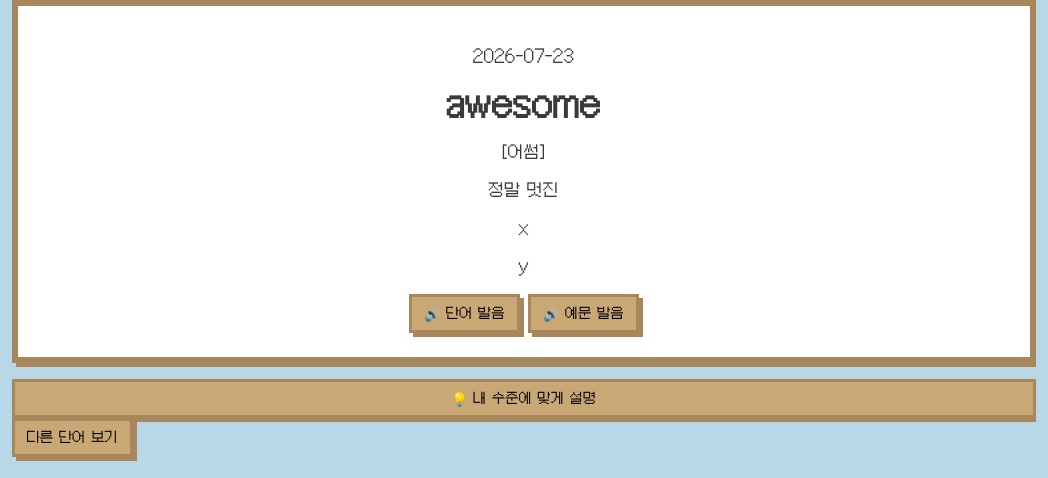
TodayPage › shows the explain button and hides it while a challenge is open
Expected: the button "💡 내 수준에 맞게 설명" is shown, [12,379,1036,418]
What coordinates should you click on to do the following:
click the button "다른 단어 보기"
I would click on:
 (73, 438)
Its box is [12,418,133,457].
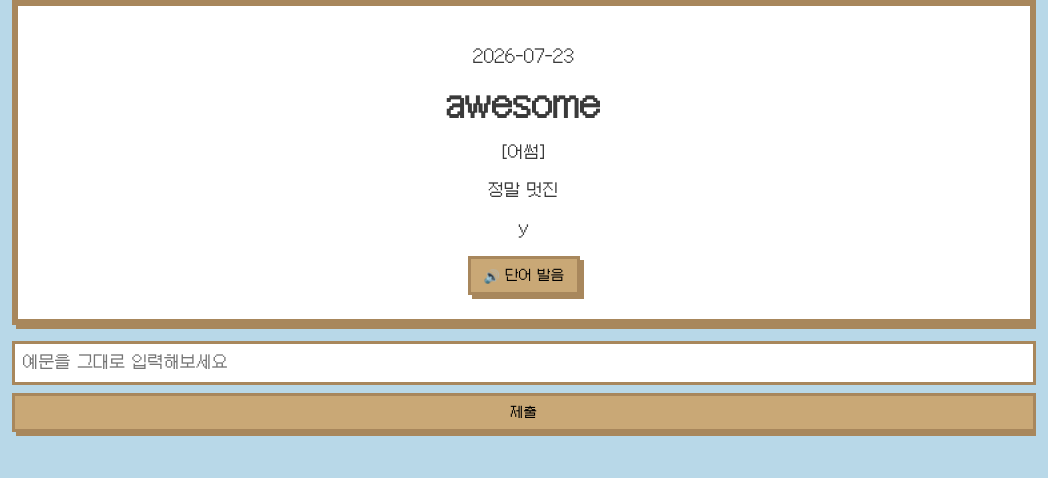
Now the button "💡 내 수준에 맞게 설명" is gone
